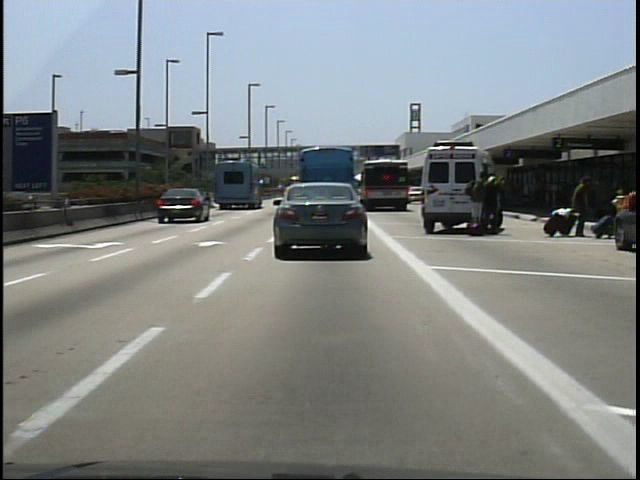person: (569, 168, 596, 242), (610, 180, 635, 246), (466, 169, 490, 236), (485, 174, 506, 234)
